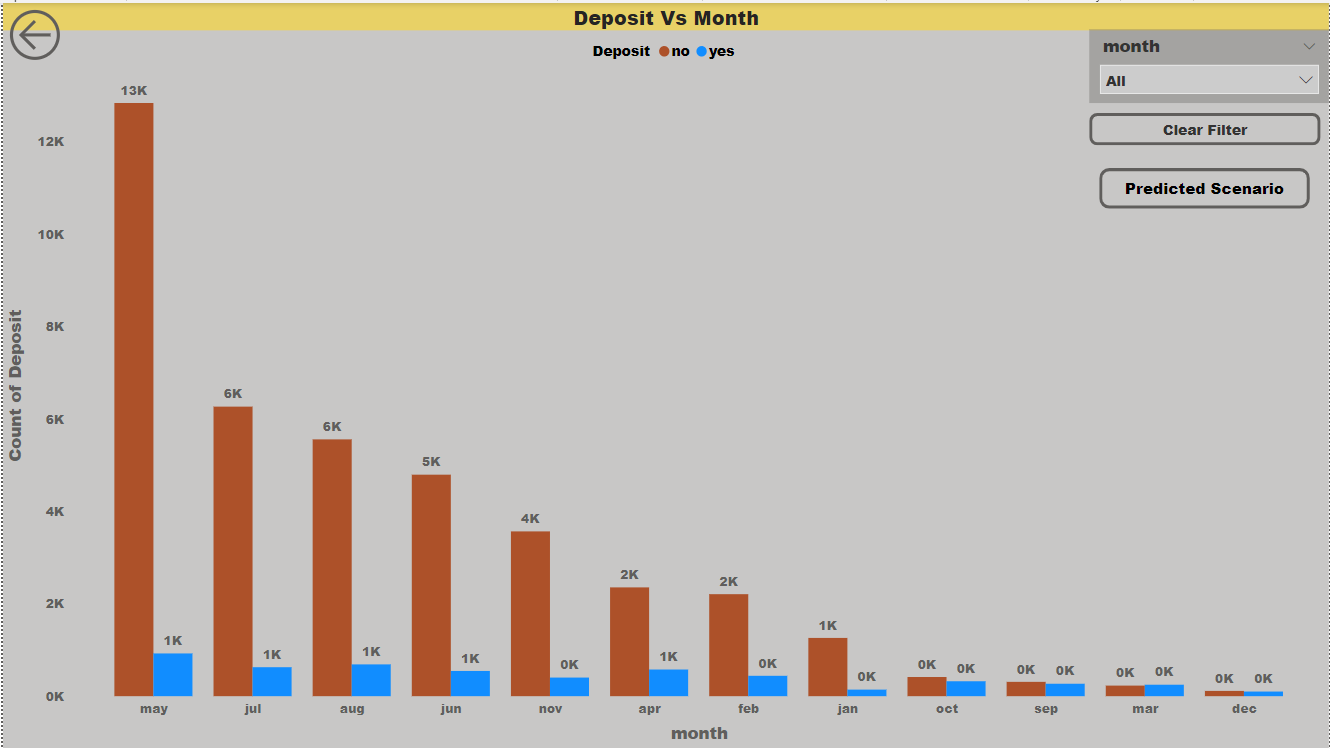

What the dashboard file says about the page in this screenshot:
{"tool":"powerbi","page":{"name":"Deposit Vs Month ","canvas":[1280,720],"ordinal":8},"visuals":[{"type":"clusteredColumnChart","title":"Deposit Vs Month","fields":{"Category":["bank-full_New.month"],"Y":["CountNonNull(bank-full_New.Deposit)"],"Series":["bank-full_New.Deposit"]},"box":[0,0,1279.6,720],"z":0},{"type":"slicer","fields":{"Values":["bank-full_New.month"]},"box":[1048,25.3,231.6,71.2],"z":1000},{"type":"actionButton","box":[1048,106.1,223.1,31.4],"z":2000},{"type":"actionButton","box":[1057.4,158.6,203.1,39],"z":3000},{"type":"actionButton","box":[0,0,100.1,61.5],"z":4000}]}

Visuals, with their boxes in screenshot pixels (x1, y1, x2, y2), scaled from the page's 1280x720 canvas onto the 1330x748 screenshot:
"Deposit Vs Month" clusteredColumnChart: <bbox>0, 0, 1329, 747</bbox>
slicer - bank-full_New.month: <bbox>1089, 26, 1329, 100</bbox>
actionButton: <bbox>1089, 110, 1321, 143</bbox>
actionButton: <bbox>1099, 165, 1310, 205</bbox>
actionButton: <bbox>0, 0, 104, 64</bbox>
